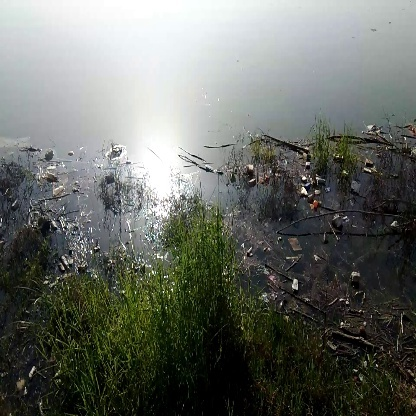branch: (274, 203, 414, 240)
